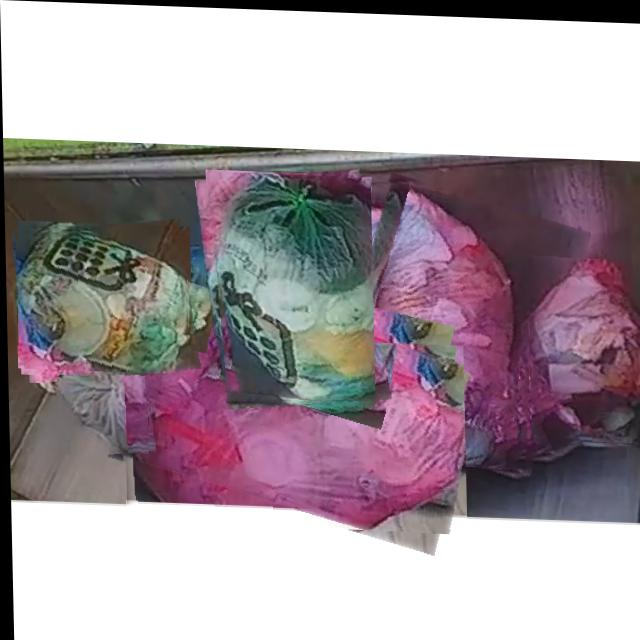general_trashbag: (212, 172, 373, 400), (15, 231, 186, 371)
other_trashbag: (117, 341, 463, 528), (365, 178, 528, 463), (528, 254, 640, 439), (56, 357, 147, 454)
